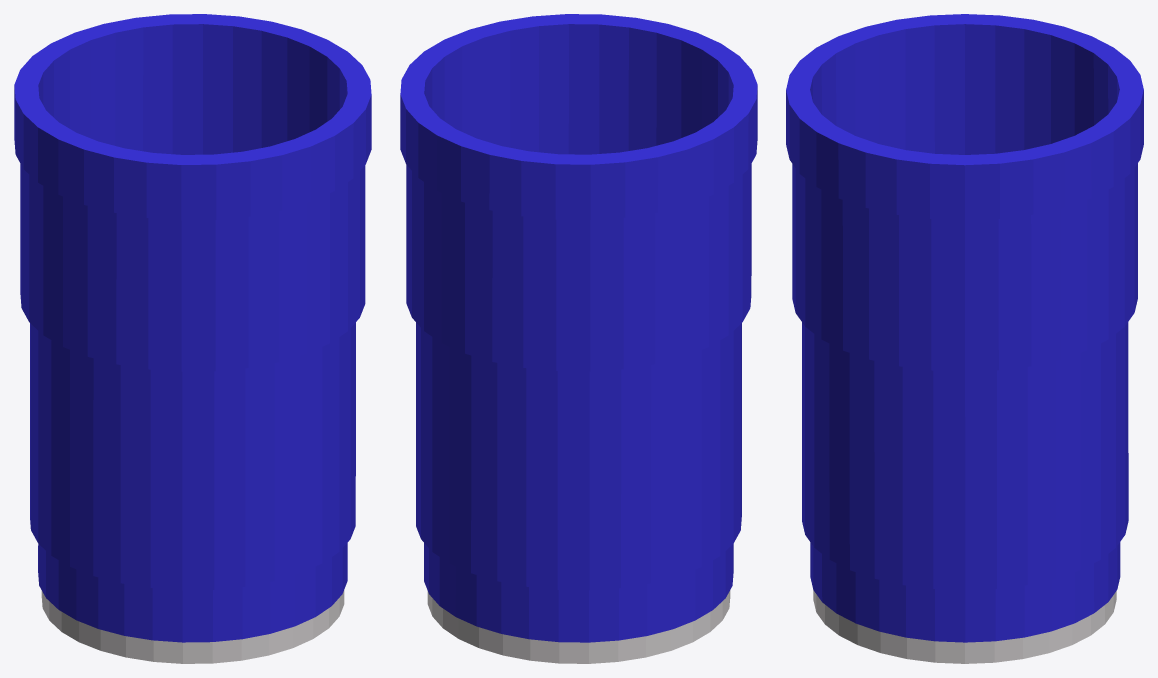
File: Cup.fbx
3 renders of one model, left to right at view 1: azimuth 30°, elevation 25°; view 2: azimuth 150°, elevation 25°; view 3: azimuth 270°, elevation 25°, orthographic.
Parts seen in each view (by area): view 1: Cylinder; view 2: Cylinder; view 3: Cylinder.
Part boxes in pixels (x1,y1,x2,y2): Cylinder: [14, 14, 371, 663]; Cylinder: [400, 14, 757, 663]; Cylinder: [786, 14, 1143, 663].
Bounding box in the file's own units: 0.1017 × 0.1601 × 0.1017.
